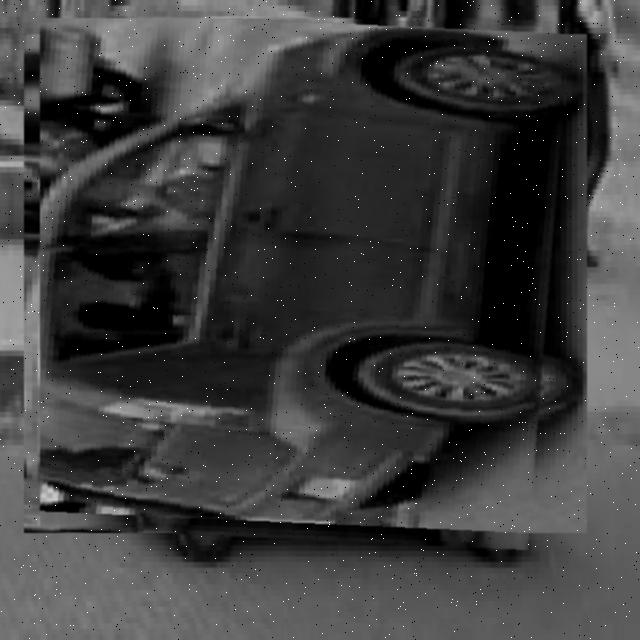car: (41, 19, 572, 551)
